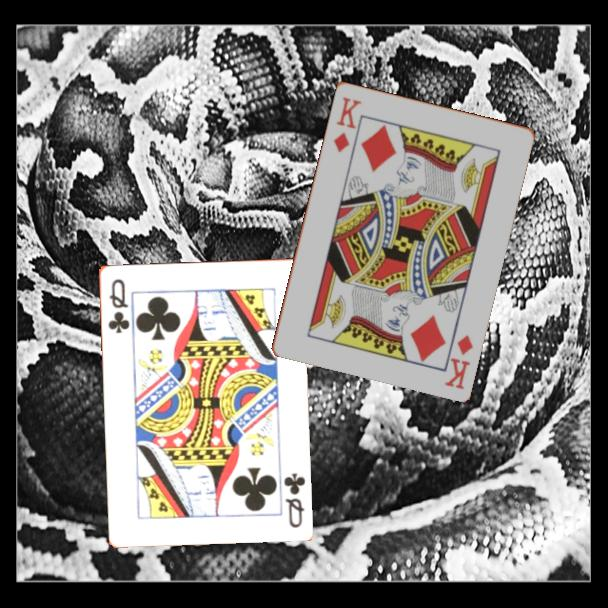c12: (280, 469, 308, 530), (105, 275, 132, 335)
d13: (441, 331, 476, 392), (330, 93, 364, 155)
